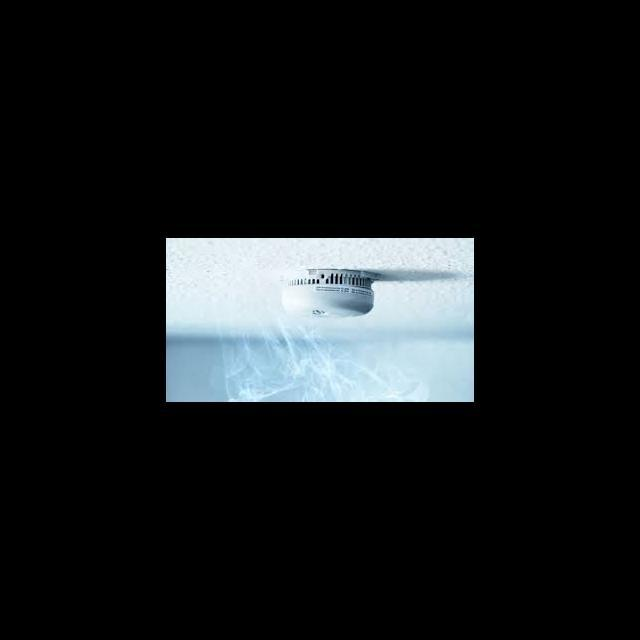Smoke: (219, 321, 408, 401)
